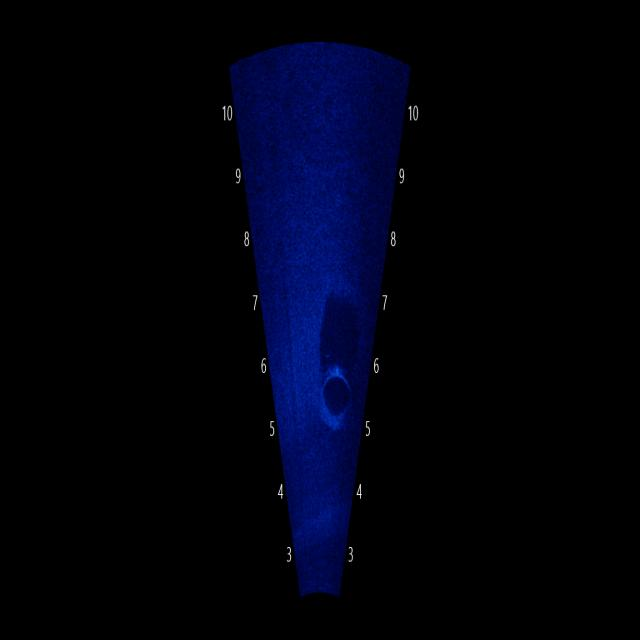circle: (312, 353, 358, 434)
